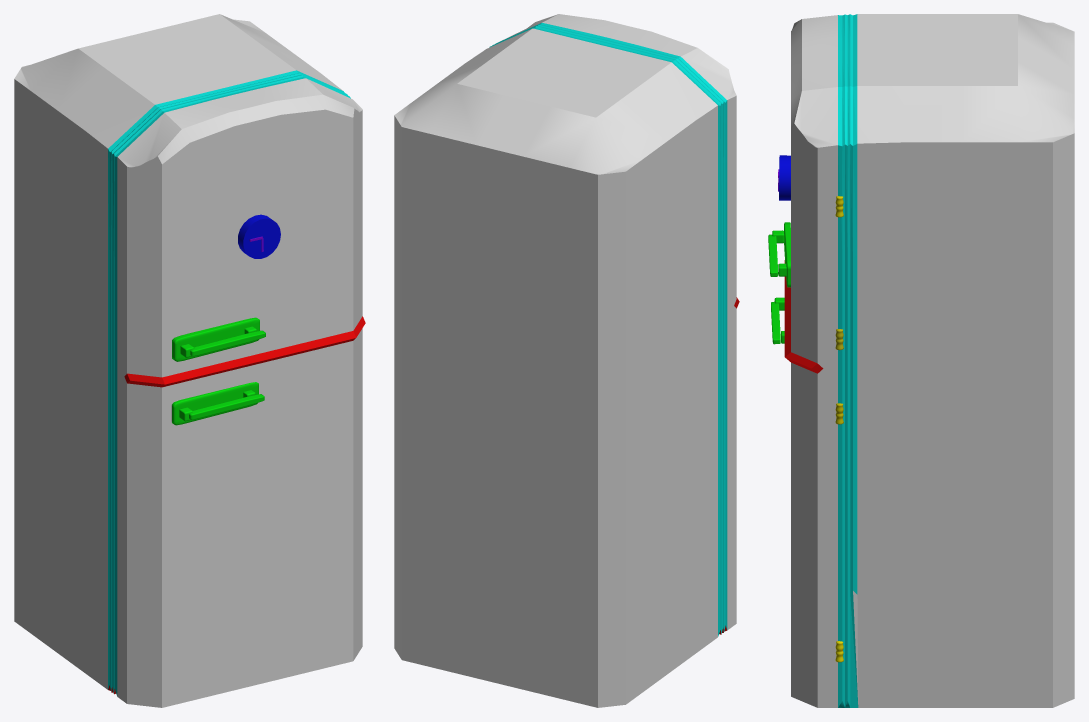
File: fridge new 1.fbx
3 views of the same model, side by side, from view 1: azimuth 30°, elevation 25°; view 2: azimuth 150°, elevation 25°; view 3: azimuth 270°, elevation 25° (orthographic). The views are drawn at different scales.
Parts seen in each view (by area): view 1: Box001; view 2: Box001; view 3: Box001.
Boxes of the visible parts, x1,y1,x2,y2 form: Box001: (14, 14, 365, 707); Box001: (394, 14, 739, 707); Box001: (768, 14, 1074, 707).
Bounding box in the file's own units: 102 × 233 × 108.
